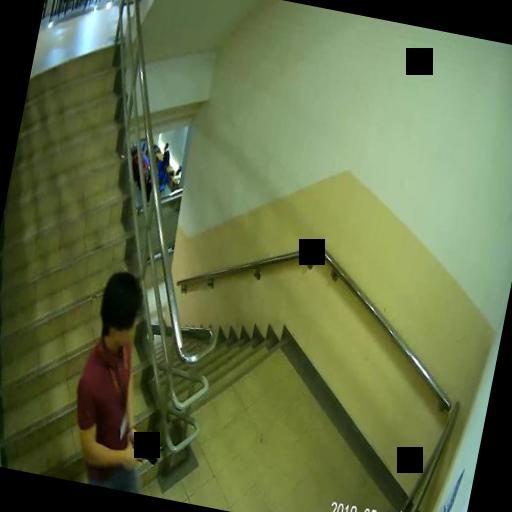Handgun: (126, 436, 159, 474)
